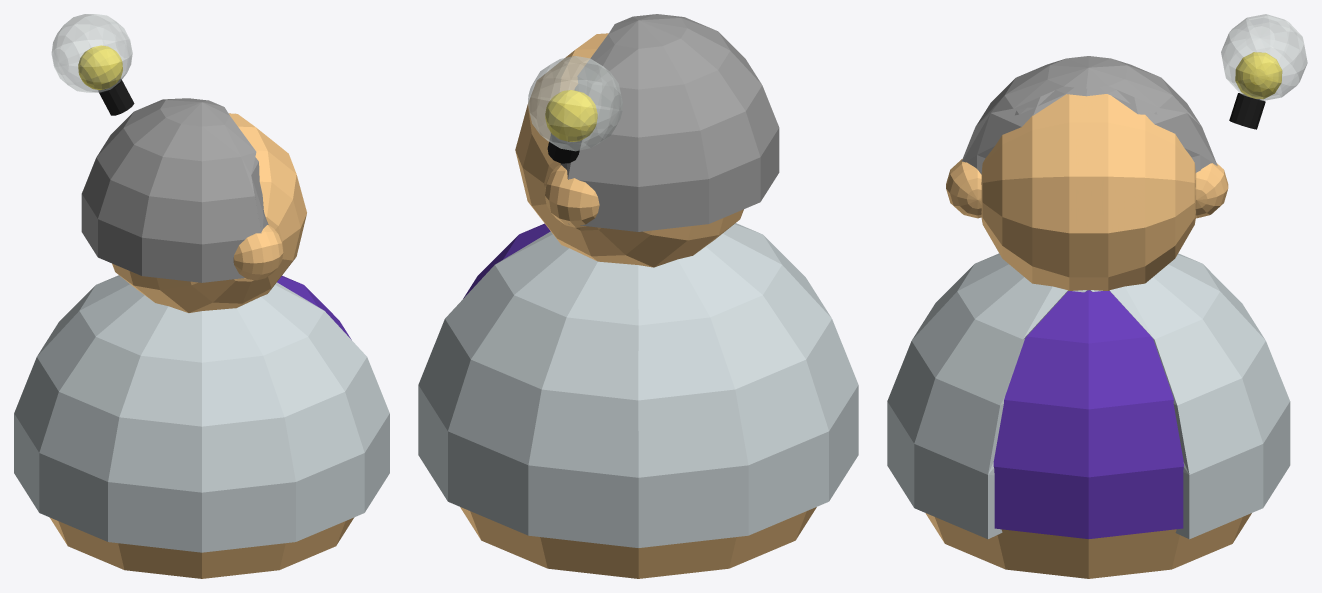
The model's file is part2_scientifique.glb.
3 views of the same model, side by side, from view 1: azimuth 30°, elevation 25°; view 2: azimuth 150°, elevation 25°; view 3: azimuth 270°, elevation 25° (orthographic). The views are drawn at different scales.
Visible parts, largest first — view 1: group1368157579, group1247805973, group1824465911, group844514553, group174665655, group2069521684, group993846406; view 2: group1368157579, group1247805973, group1824465911, group844514553, group174665655, group956058354, group993846406; view 3: group1368157579, group993846406, group1824465911, group844514553, group1247805973, group174665655, group2069521684, group956058354, group970962896.
Boxes of the visible parts, left/top/right/bottom form: group1368157579: left=14, top=275, right=389, bottom=552; group1247805973: left=81, top=98, right=268, bottom=282; group1824465911: left=112, top=113, right=306, bottom=312; group844514553: left=49, top=517, right=354, bottom=578; group174665655: left=51, top=14, right=134, bottom=115; group2069521684: left=233, top=225, right=283, bottom=280; group993846406: left=277, top=275, right=351, bottom=339; group1368157579: left=418, top=223, right=858, bottom=547; group1247805973: left=560, top=14, right=779, bottom=231; group1824465911: left=515, top=33, right=743, bottom=267; group844514553: left=460, top=507, right=816, bottom=578; group174665655: left=528, top=56, right=622, bottom=163; group956058354: left=545, top=164, right=599, bottom=227; group993846406: left=463, top=223, right=550, bottom=298; group1368157579: left=887, top=253, right=1290, bottom=539; group993846406: left=993, top=290, right=1183, bottom=539; group1824465911: left=981, top=94, right=1195, bottom=290; group844514553: left=925, top=513, right=1251, bottom=578; group1247805973: left=961, top=56, right=1217, bottom=174; group174665655: left=1221, top=14, right=1307, bottom=129; group2069521684: left=946, top=159, right=981, bottom=218; group956058354: left=1195, top=163, right=1228, bottom=218; group970962896: left=1015, top=86, right=1157, bottom=115.
Bounding box in the file's own units: 0.245 × 0.3255 × 0.2608.
